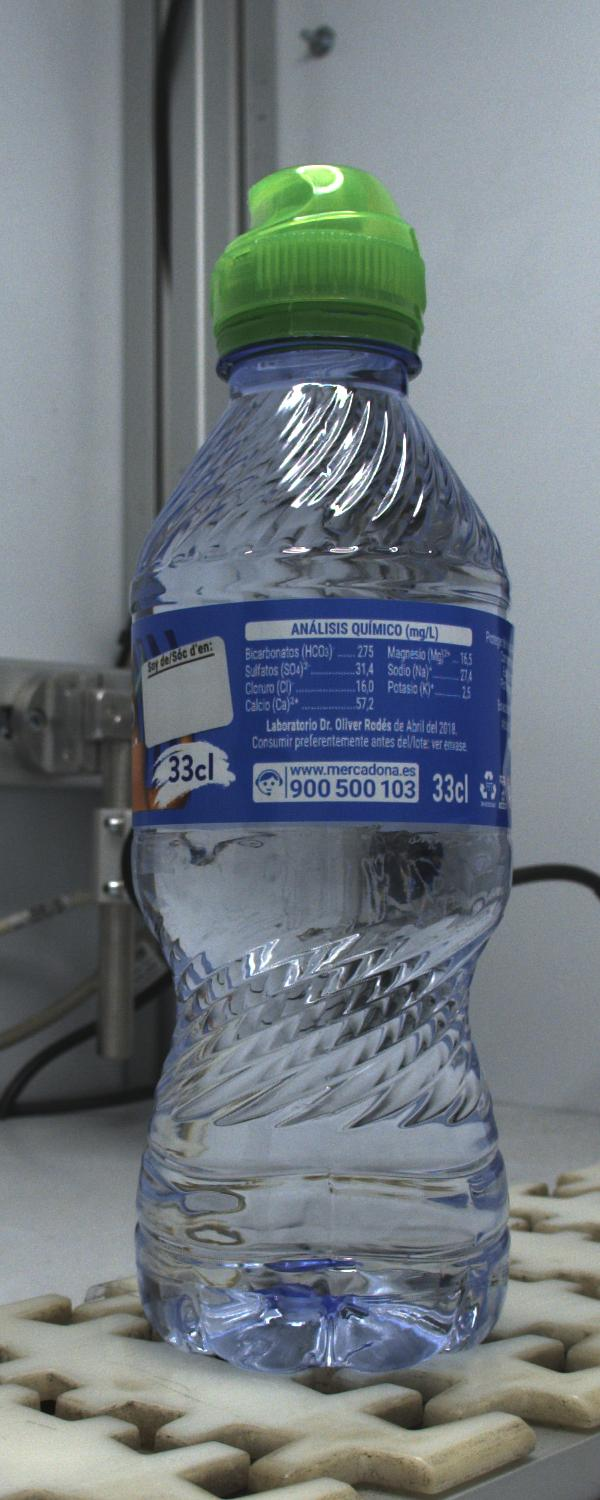bottle: (132, 165, 511, 1371)
cap: (132, 165, 511, 1371), (210, 164, 425, 356)
